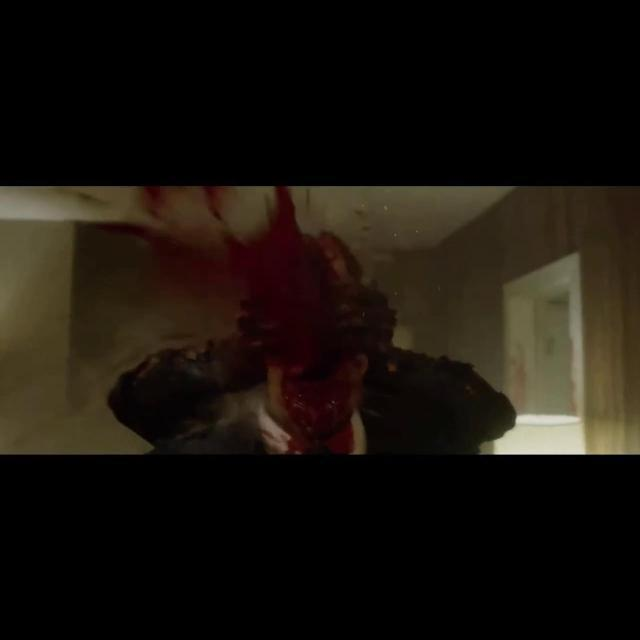blood: (94, 186, 396, 454)
